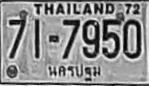0: (122, 18, 140, 58)
1: (34, 19, 39, 58)
5: (102, 18, 120, 57)
7: (8, 18, 27, 58), (62, 18, 79, 58)
9: (82, 19, 99, 57)
NPT: (45, 60, 105, 82)
